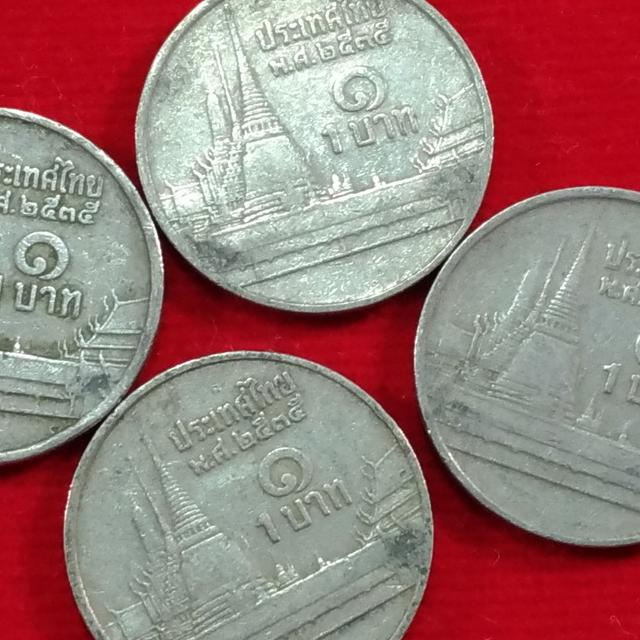1-baht: (128, 0, 502, 316), (58, 343, 446, 640), (406, 174, 640, 560), (0, 89, 171, 471)
